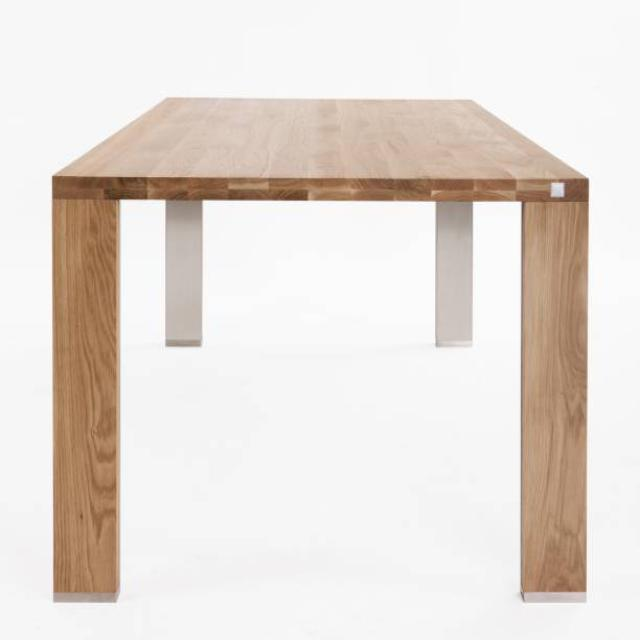table: (50, 94, 590, 602)
